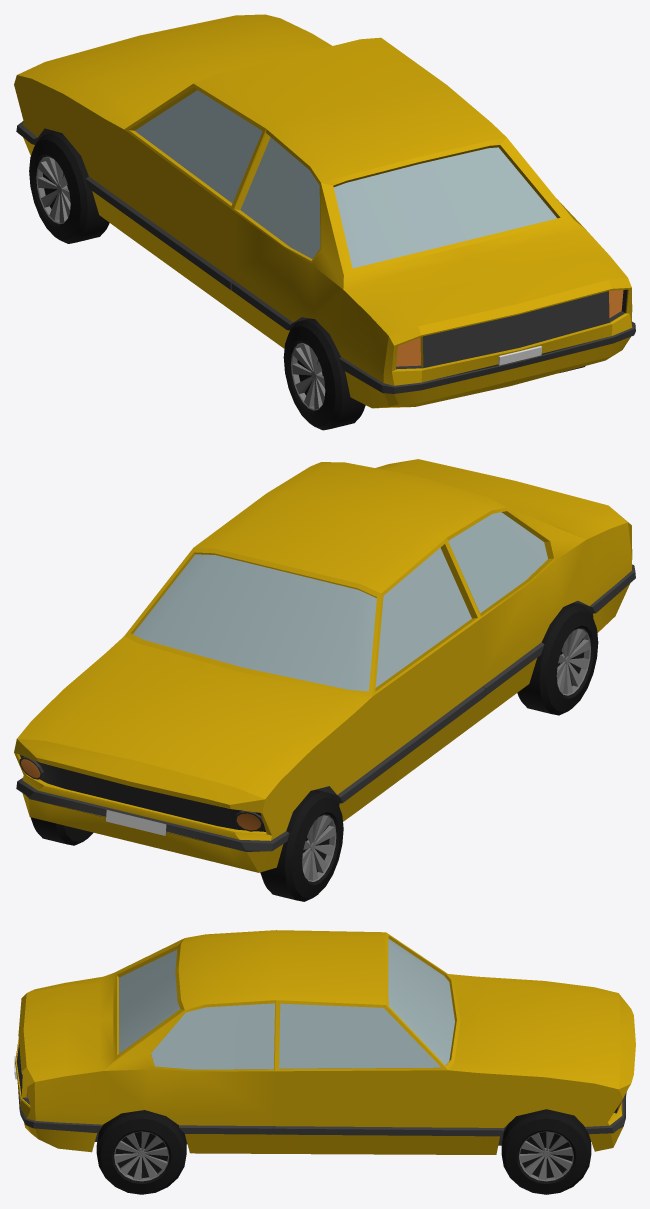
Rendered from Vehicle_01.fbx.
3 views of the same model, one above another, from view 1: azimuth 30°, elevation 25°; view 2: azimuth 150°, elevation 25°; view 3: azimuth 270°, elevation 25° (orthographic). The views are drawn at different scales.
Visible parts, largest first — view 1: Cylinder.002; view 2: Cylinder.002; view 3: Cylinder.002.
Boxes of the visible parts, box(x1,y1,x2,y2) form: Cylinder.002: box(14, 14, 635, 430); Cylinder.002: box(14, 459, 635, 901); Cylinder.002: box(14, 930, 635, 1194).
Bounding box in the file's own units: 808 × 263 × 321.
